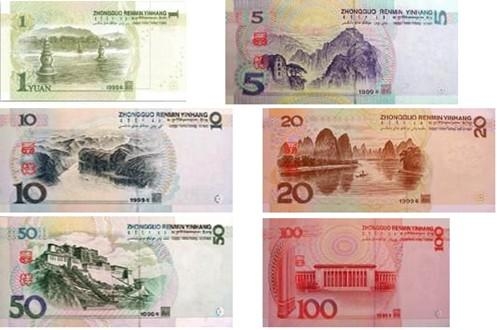rmb: (1, 217, 230, 330), (1, 108, 234, 214), (261, 110, 497, 213), (228, 1, 460, 105), (1, 1, 186, 101)
